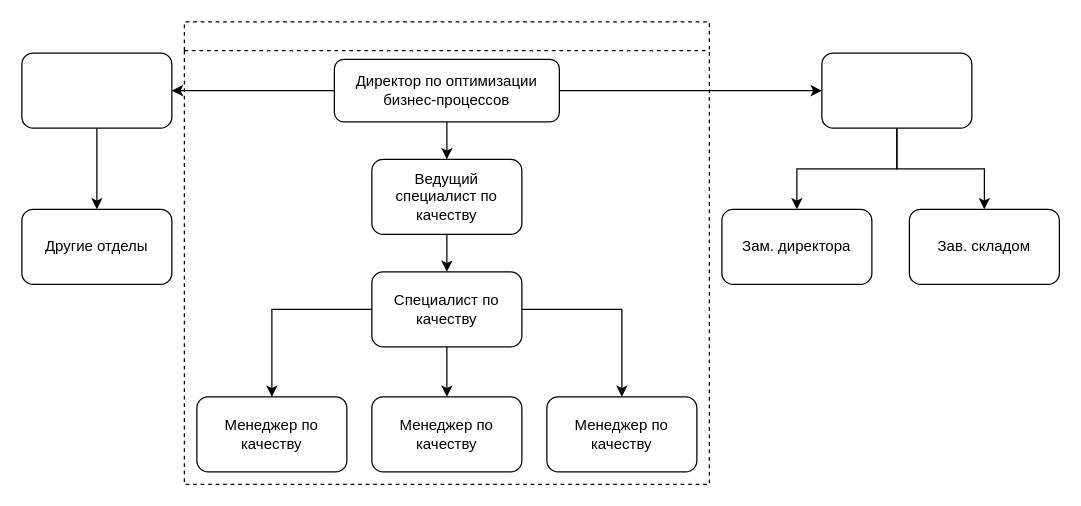
The diagram is 1081 pixels wide and 506 high, and some of its shapes have lost their labels. The shapes that lost their labels are listed below. From the top down, each one's centre as x and y in pixels, then its label:
At (x=96, y=90): "Контрольно-ревизионный отдел".
At (x=896, y=90): "Директор магазина".
At (x=446, y=252): "Отдел оптимизации бизнес-процессов".
